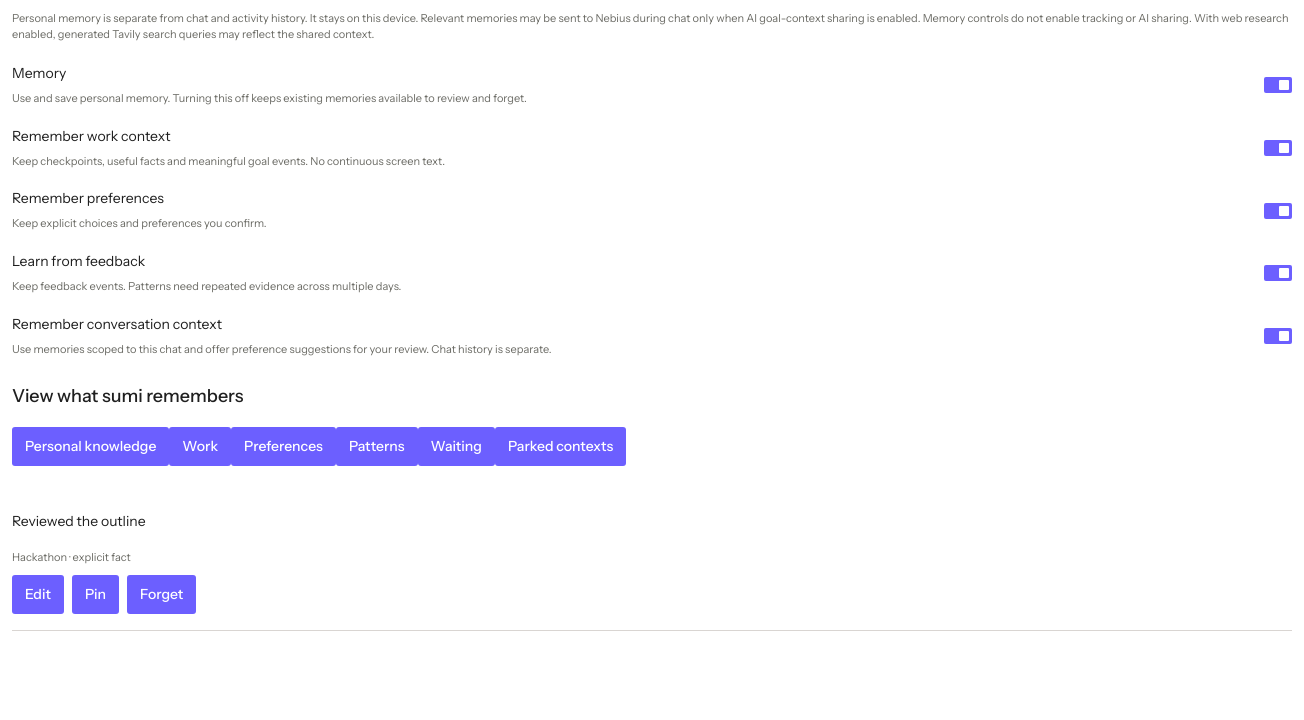
Test: Memory settings › Memory OFF saves the whole policy and disables subordinate switches
What coordinates should you click on to do the following:
click the checkbox labelled "Memory"
I would click on:
 (1278, 85)
Its box is [1264, 77, 1292, 93].
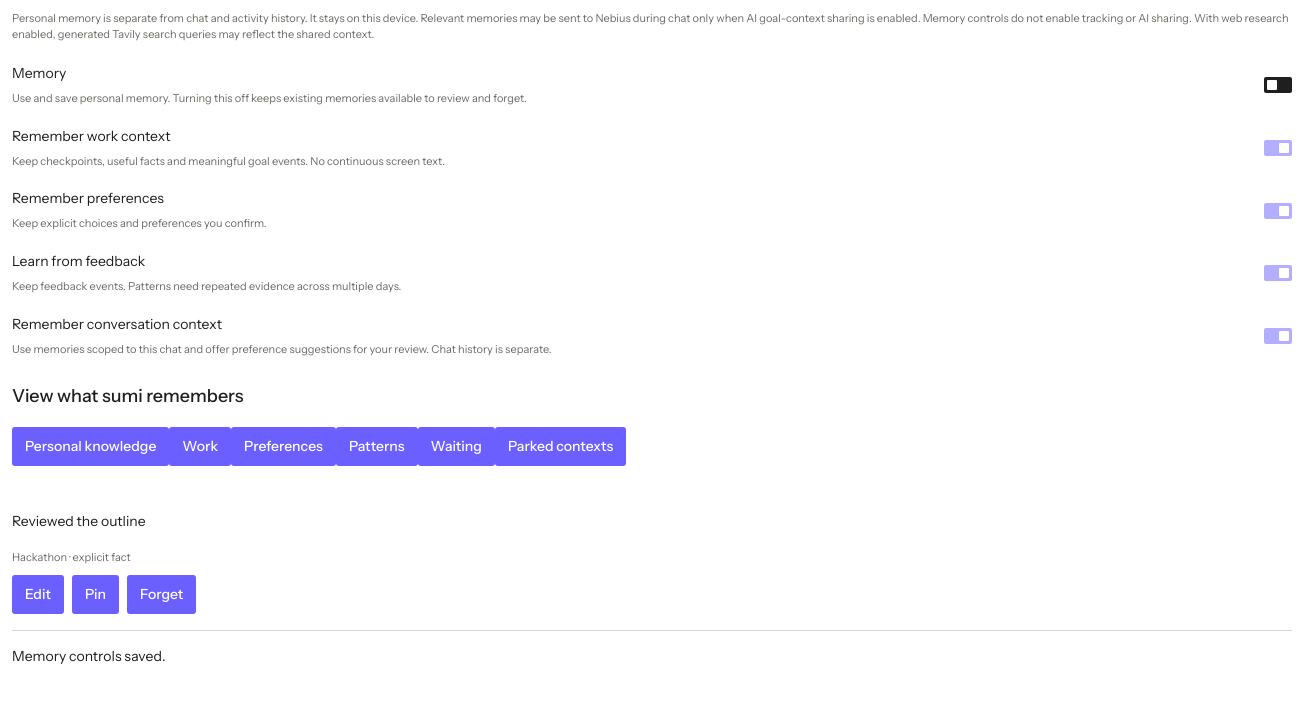
Expected: the text "Reviewed the outline" is shown, [12, 512, 146, 530]
Now the checkbox labelled "Remember preferences" is disabled, box [1264, 203, 1292, 219]
